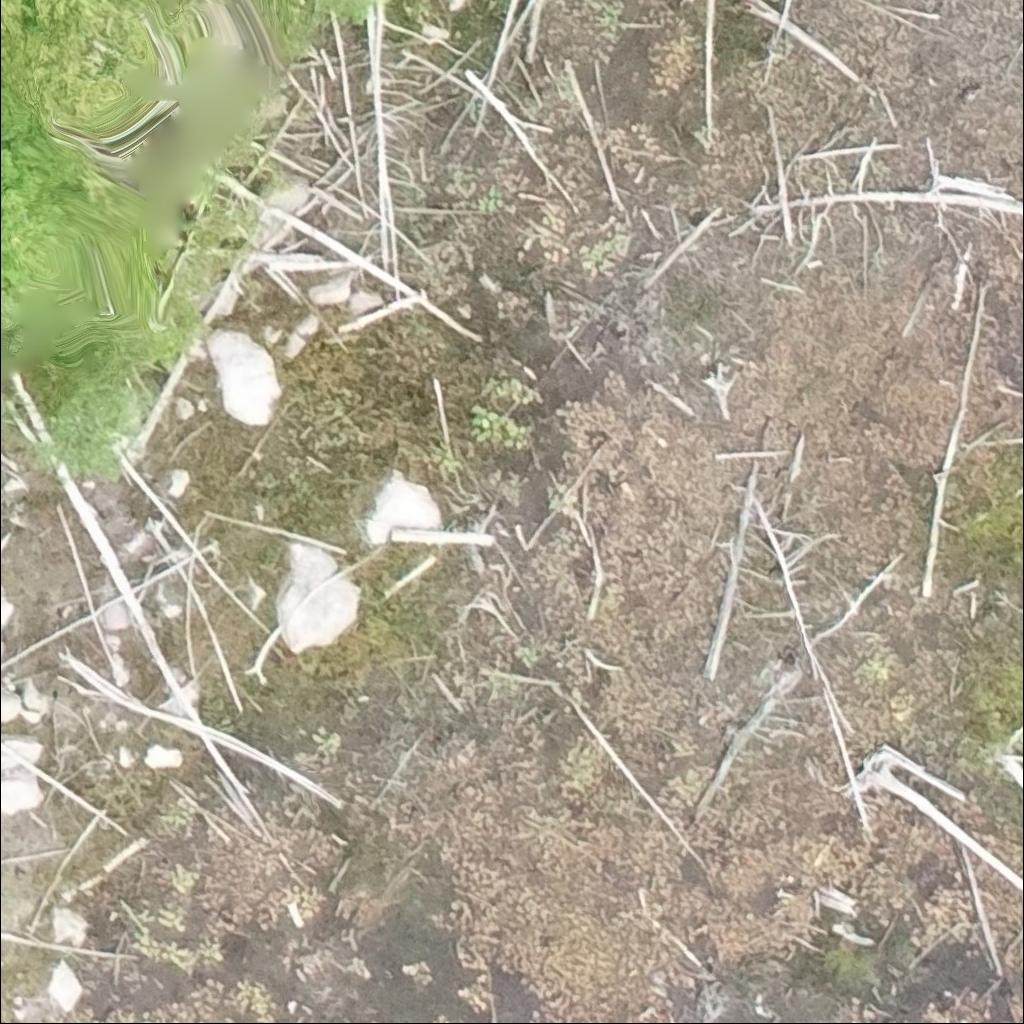crown: (0, 0, 157, 118)
